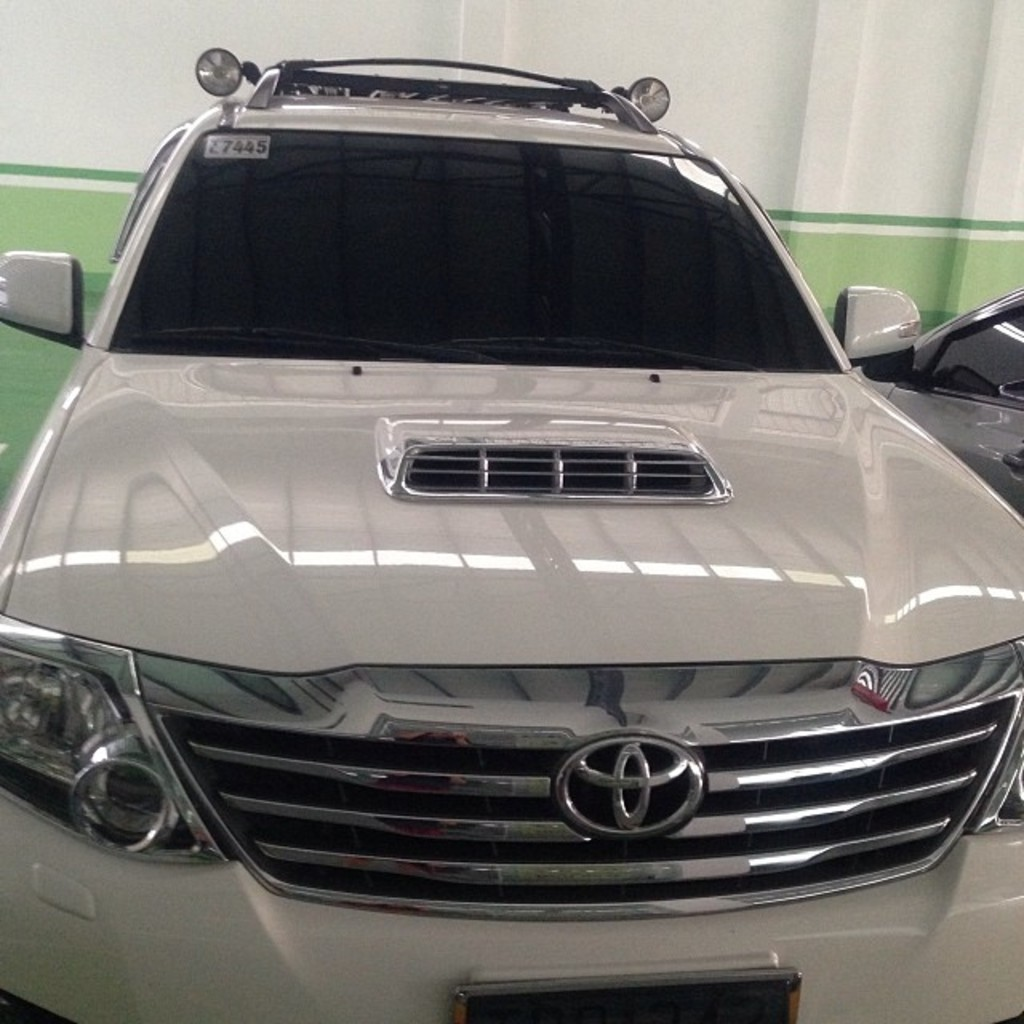Car: (0, 47, 1023, 1024)
